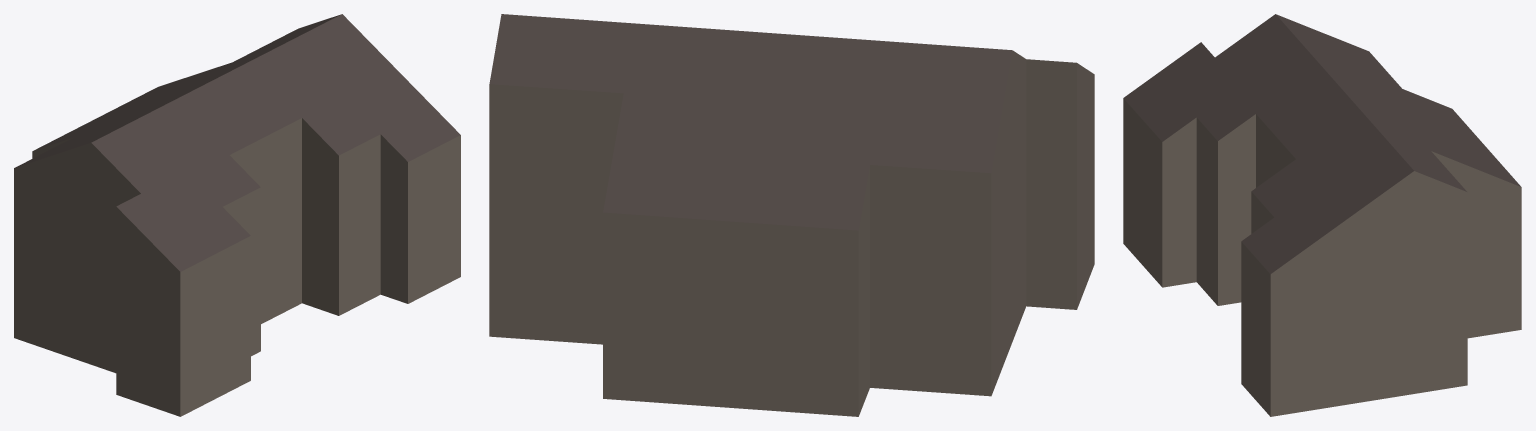
3 renders of one model, left to right at view 1: azimuth 30°, elevation 25°; view 2: azimuth 150°, elevation 25°; view 3: azimuth 270°, elevation 25°, orthographic. The views are drawn at different scales.
Visible parts, largest first — view 1: HP-w1367350976; view 2: HP-w1367350976; view 3: HP-w1367350976.
Boxes of the visible parts, bbox=[...] form: HP-w1367350976: bbox=[14, 14, 460, 416]; HP-w1367350976: bbox=[489, 14, 1094, 416]; HP-w1367350976: bbox=[1123, 14, 1521, 416].
Bounding box in the file's own units: 26.38 × 14.08 × 22.8.
